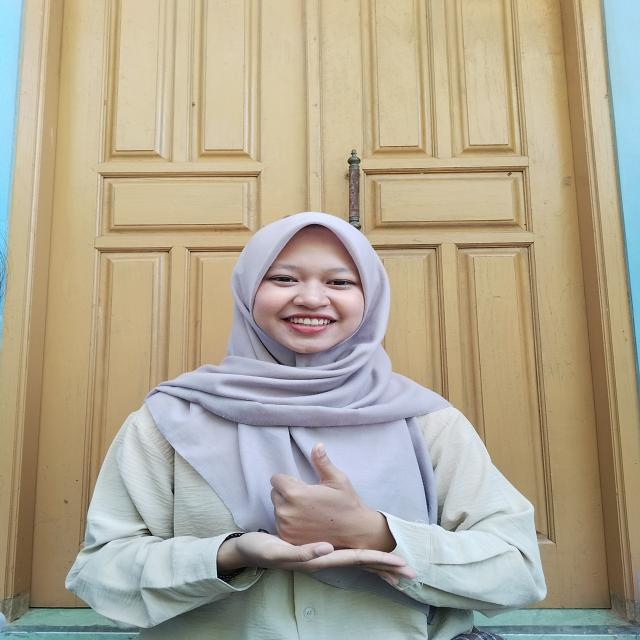cantik: (216, 443, 402, 595)
